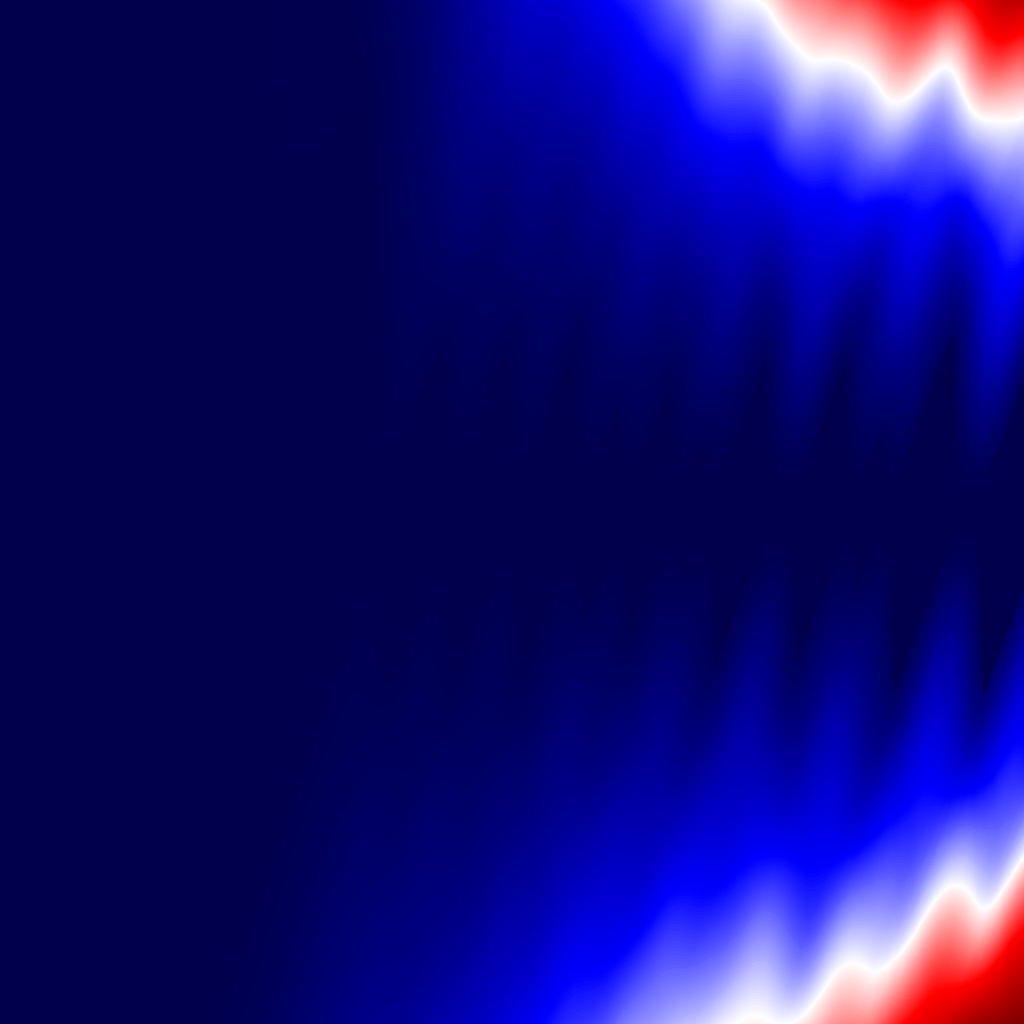diamond: (233, 148, 383, 876), (889, 296, 978, 728), (383, 342, 453, 682), (454, 350, 520, 674), (711, 355, 776, 669), (520, 360, 582, 664), (794, 362, 856, 662), (628, 387, 679, 637), (582, 403, 627, 621), (856, 432, 889, 592), (679, 435, 711, 589), (776, 470, 793, 554)
